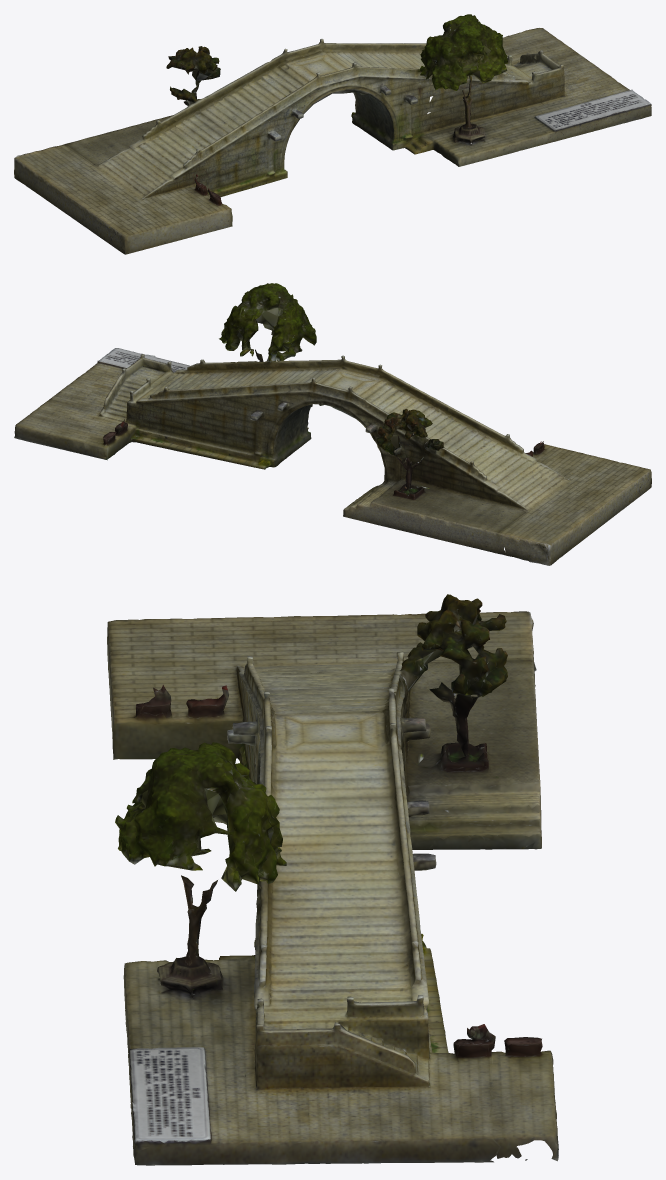
The model's file is ancient_stone_bridge_in_china.glb.
3 renders of one model, top to bottom at view 1: azimuth 30°, elevation 25°; view 2: azimuth 150°, elevation 25°; view 3: azimuth 270°, elevation 25°, orthographic. The views are drawn at different scales.
Visible parts, largest first — view 1: Object_2; view 2: Object_2; view 3: Object_2.
Boxes of the visible parts, <box> form: Object_2: <box>14,14,651,254</box>; Object_2: <box>14,283,651,565</box>; Object_2: <box>107,594,558,1165</box>.
Size of the model in its own units: 24.97 by 5.76 by 9.14.
Materials: 1 (1 with a texture image).
